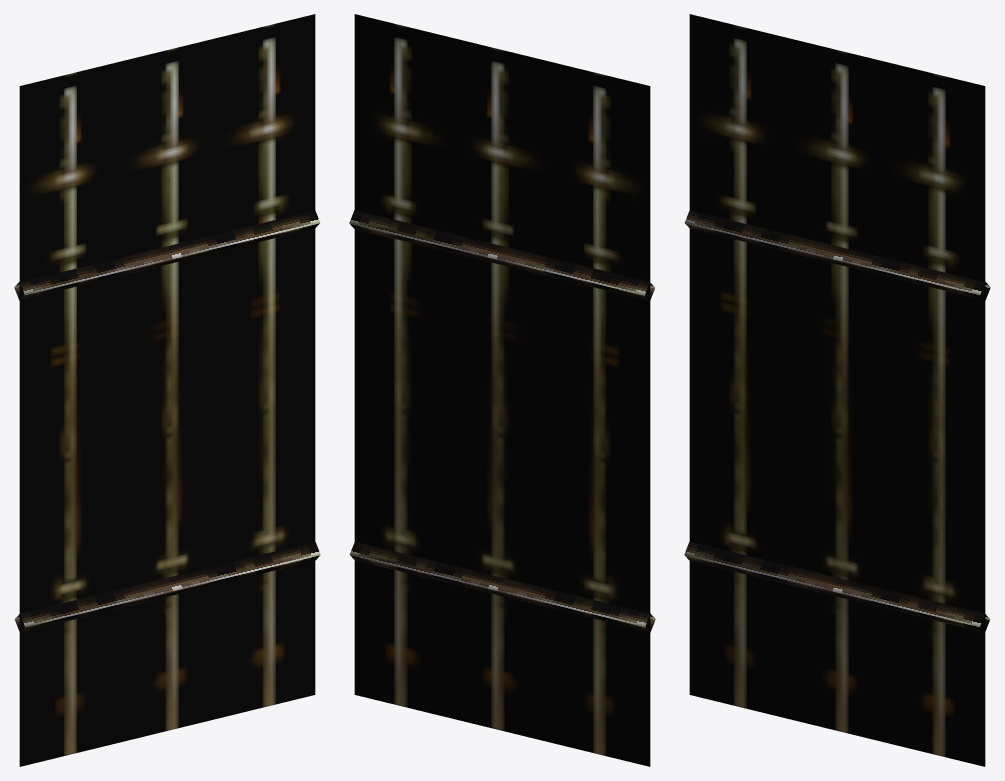
File: SteelWall03.glb
The picture shows the model from 3 angles, left to right: view 1: azimuth 30°, elevation 25°; view 2: azimuth 150°, elevation 25°; view 3: azimuth 330°, elevation 25°; orthographic projection.
Parts seen in each view (by area): view 1: SteelWall03; view 2: SteelWall03; view 3: SteelWall03.
Boxes of the visible parts, x1,y1,x2,y2 form: SteelWall03: (14, 14, 320, 766); SteelWall03: (349, 14, 655, 766); SteelWall03: (684, 14, 990, 766).
Bounding box in the file's own units: 1 × 2.2 × 0.0644.
Materials: 2 (2 with a texture image).
